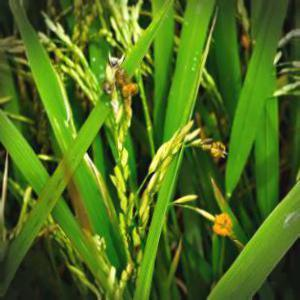Leaf_Scald: (116, 66, 134, 107), (214, 207, 235, 241)
